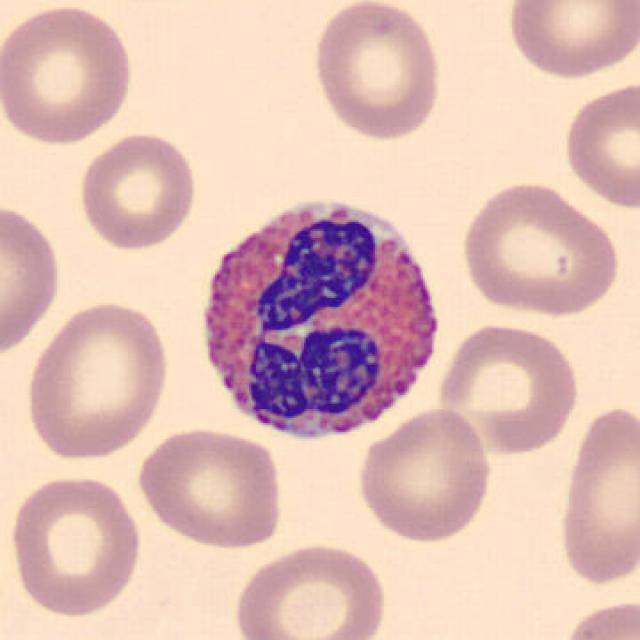Eosinophil: (187, 180, 453, 456)
RBC: (22, 296, 175, 464), (455, 176, 624, 319), (5, 470, 146, 620), (434, 319, 581, 459), (0, 0, 139, 148), (352, 404, 496, 545), (308, 0, 446, 143), (132, 425, 288, 550), (229, 537, 391, 640), (555, 398, 638, 590), (75, 129, 201, 254), (503, 0, 638, 81), (558, 77, 638, 212), (0, 197, 64, 365), (558, 596, 638, 640)
